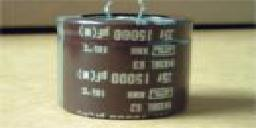Electrolytic-Capacitor: (56, 2, 195, 122)
